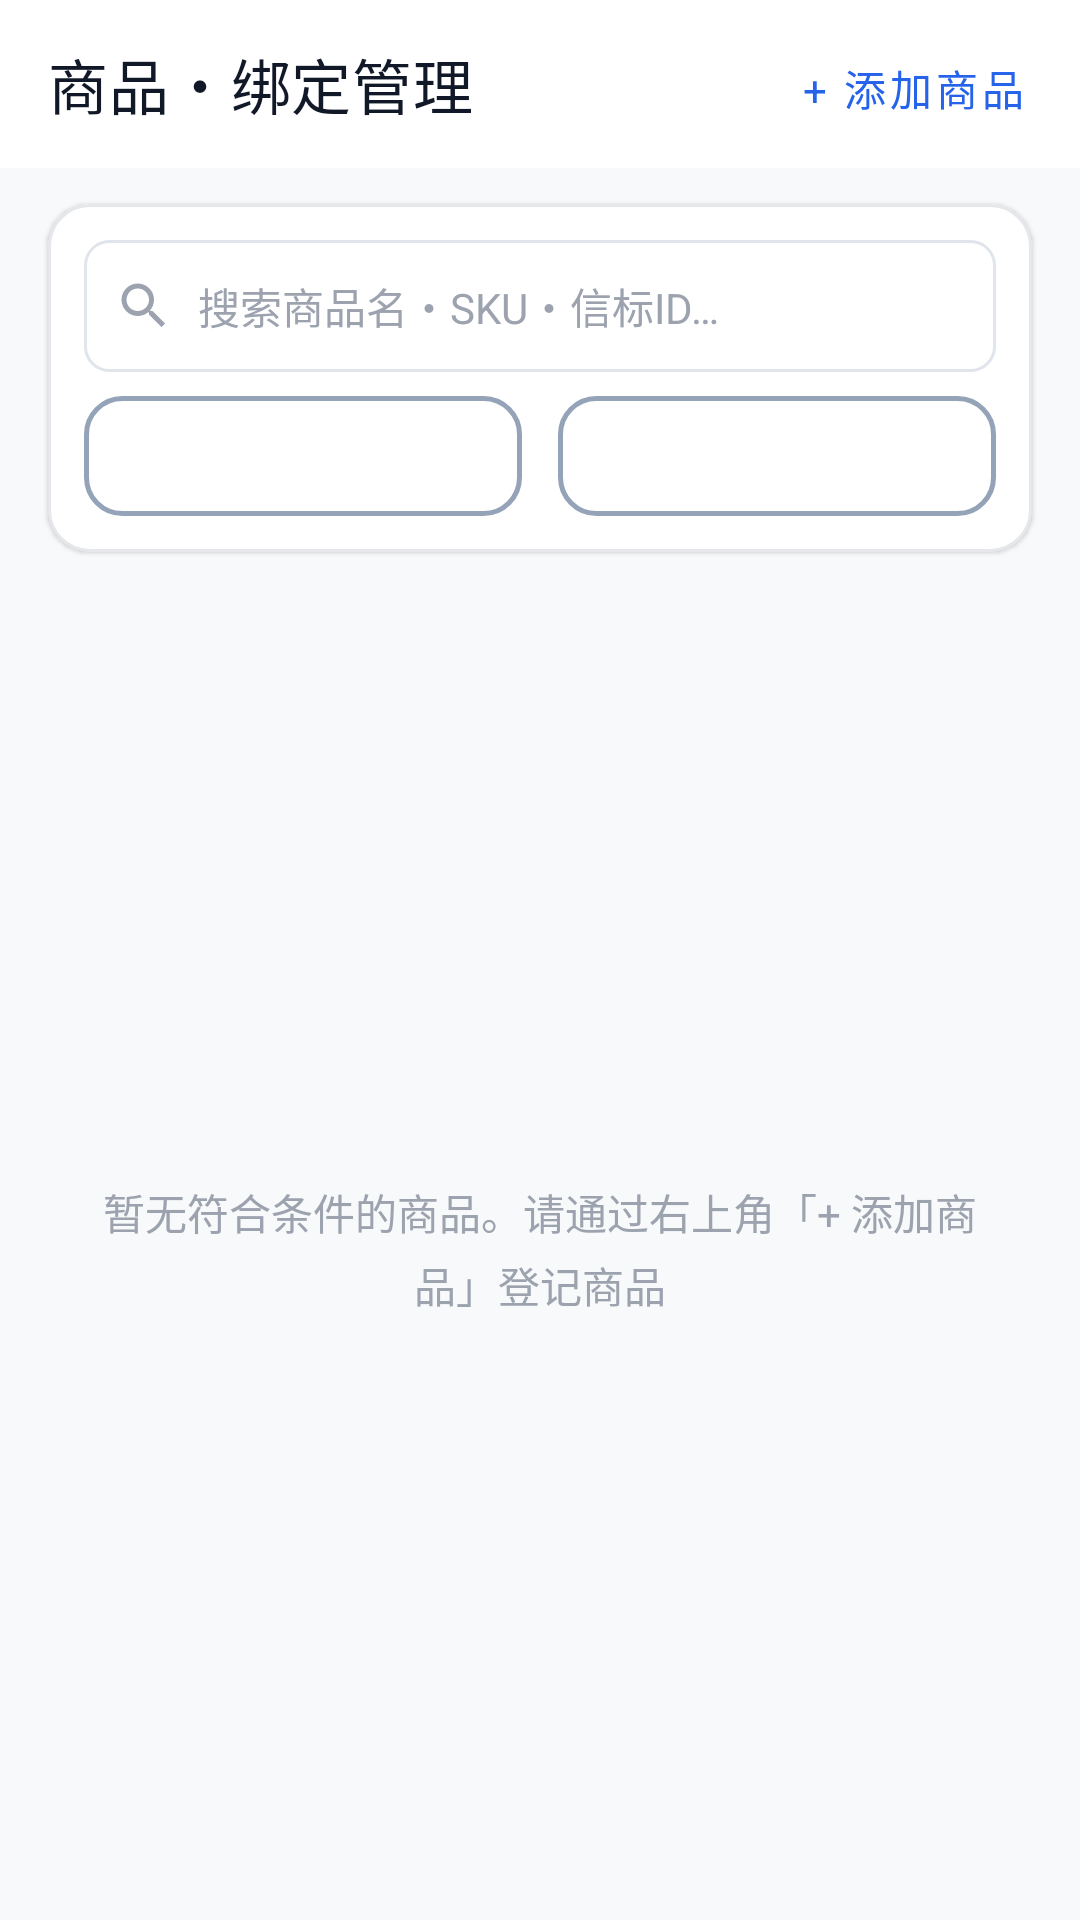

Where icons sit on this 1080w x 1920h app screen, as BBox(x1, y1, x2, y2):
Search: BBox(121, 283, 165, 327)
